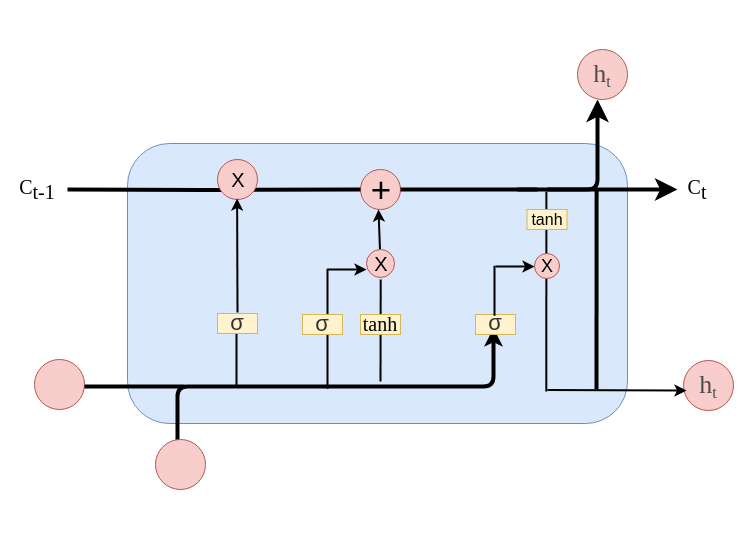
Some shapes in this 751 by 534 pixel diagram are drawn without their labels. The shapes that lost their labels are listed below. From the top down, each one's box as (x1, y1, x2, y2) in pixels, then its label:
(34, 358, 84, 410): h t-1
(154, 438, 206, 490): x t
